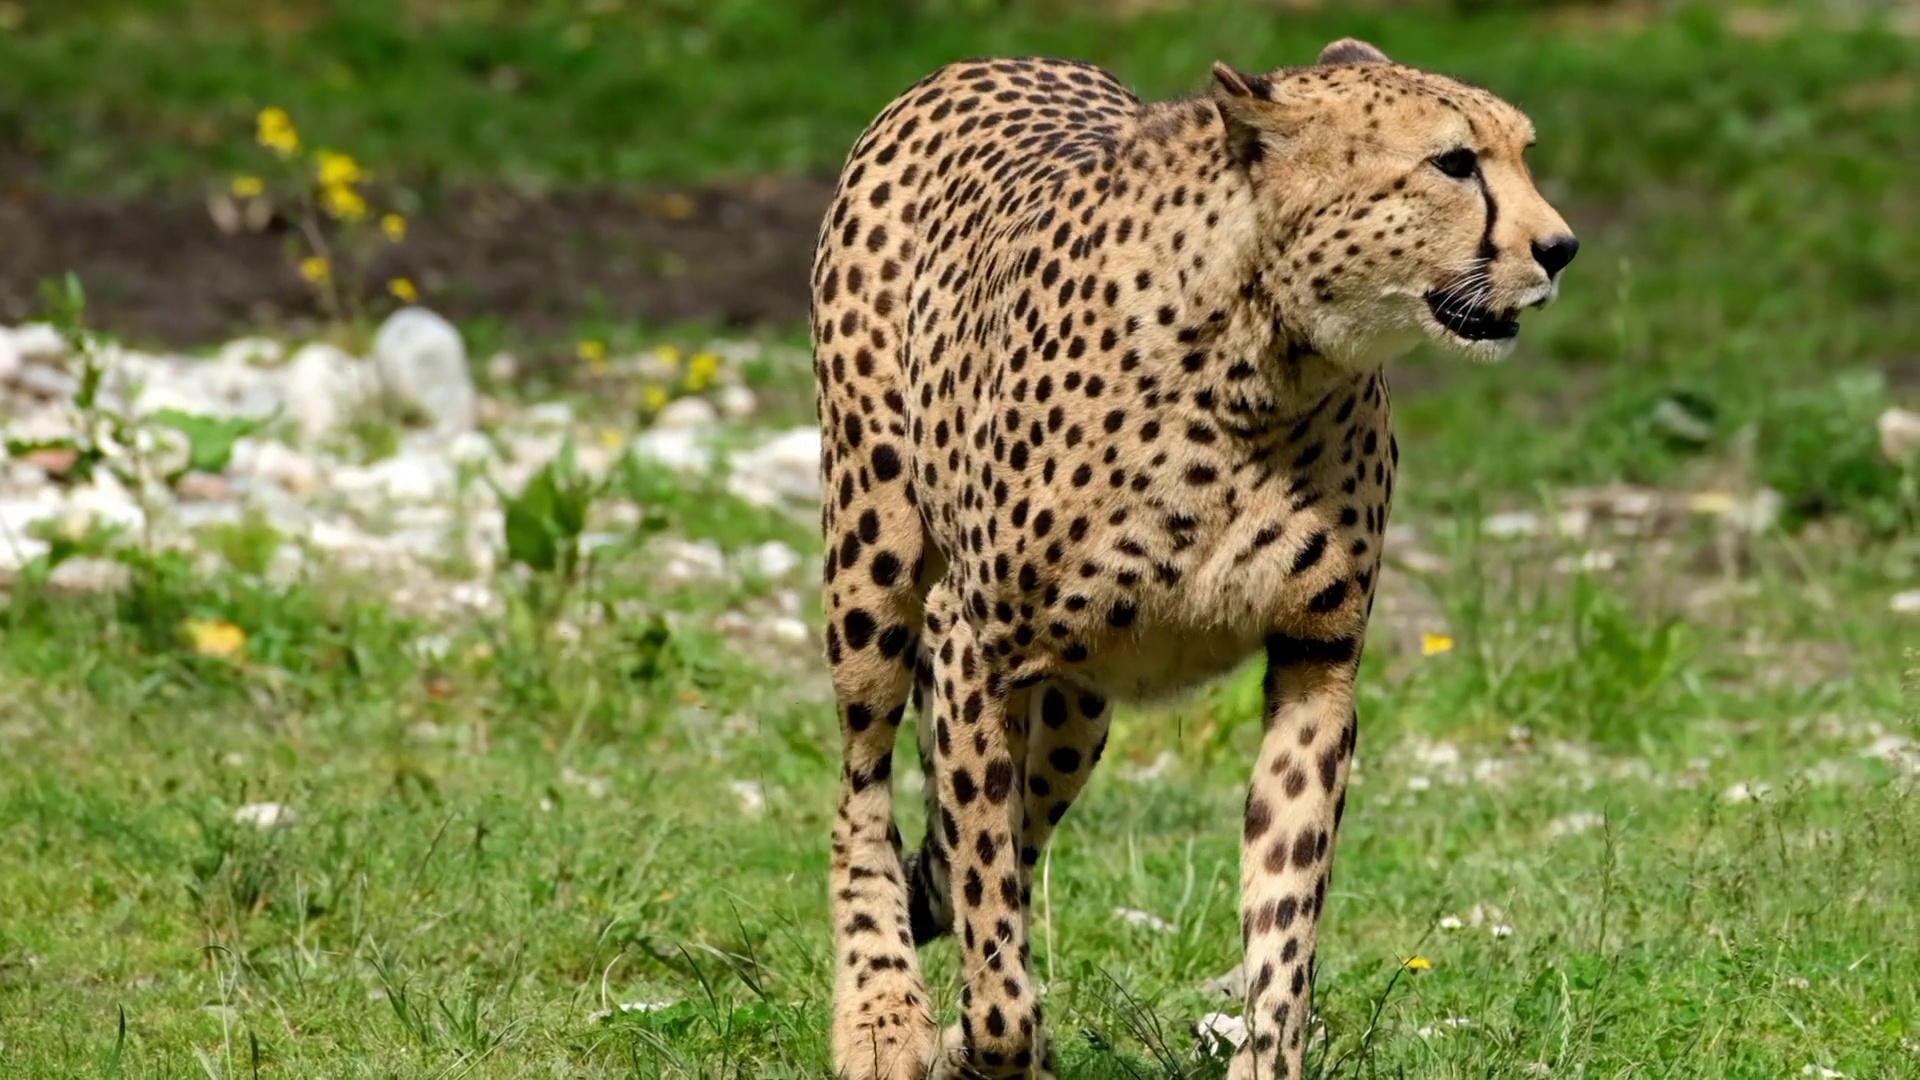Cheetah: (800, 30, 1586, 1080)
